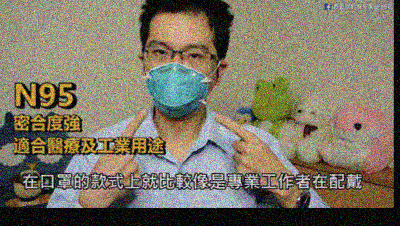with_mask: (143, 37, 216, 117)
